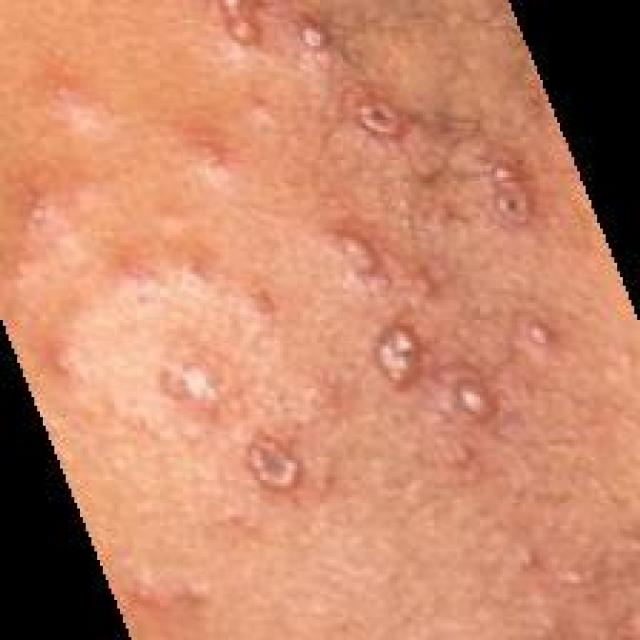others: (93, 0, 583, 601)
